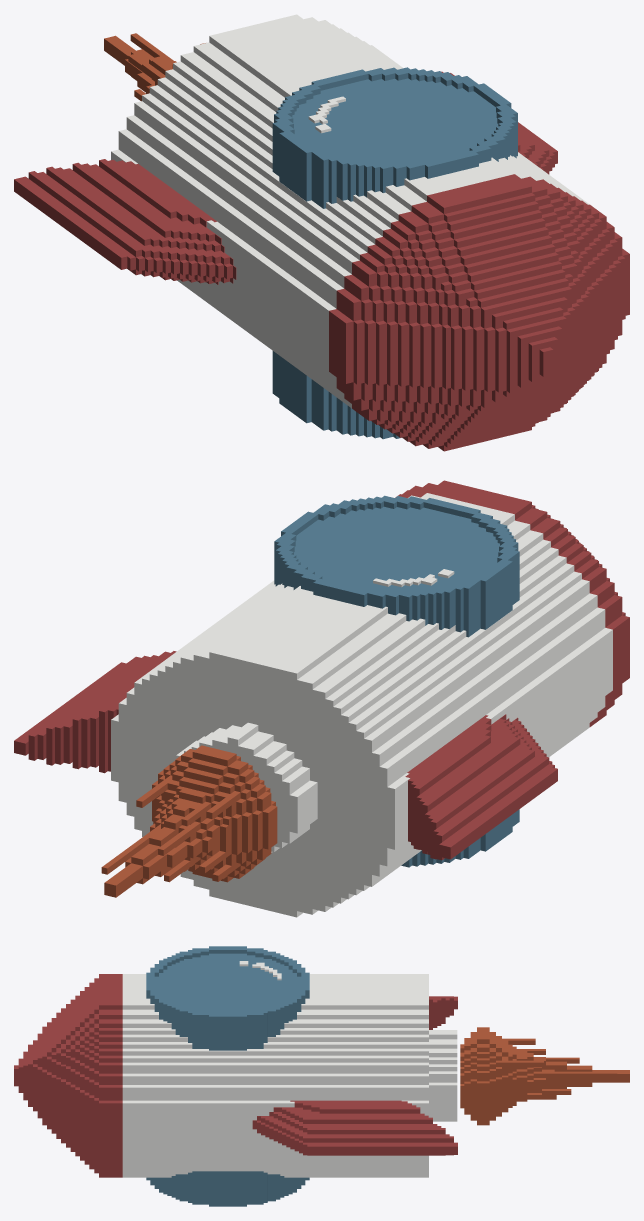
File: roketto_fire.fbx
3 views of the same model, one above another, from view 1: azimuth 30°, elevation 25°; view 2: azimuth 150°, elevation 25°; view 3: azimuth 270°, elevation 25° (orthographic). The views are drawn at different scales.
Parts seen in each view (by area): view 1: Body21, Body9, Body15, Body10, Body35, Body14; view 2: Body9, Body15, Body35, Body10, Body14, Body21; view 3: Body9, Body15, Body21, Body14, Body35, Body10.
Part boxes in pixels (x1=…): Body21: x1=329, y1=174, x2=629, y2=451; Body9: x1=111, y1=14, x2=589, y2=408; Body15: x1=272, y1=67, x2=517, y2=439; Body10: x1=14, y1=159, x2=236, y2=284; Body35: x1=104, y1=33, x2=205, y2=101; Body14: x1=441, y1=71, x2=557, y2=174; Body9: x1=111, y1=493, x2=612, y2=917; Body15: x1=274, y1=495, x2=519, y2=867; Body35: x1=101, y1=745, x2=277, y2=897; Body10: x1=405, y1=714, x2=557, y2=860; Body14: x1=14, y1=651, x2=176, y2=773; Body21: x1=395, y1=480, x2=629, y2=726; Body9: x1=122, y1=974, x2=457, y2=1177; Body15: x1=146, y1=946, x2=309, y2=1206; Body21: x1=14, y1=974, x2=122, y2=1177; Body14: x1=252, y1=1100, x2=457, y2=1155; Body35: x1=460, y1=1027, x2=629, y2=1125; Body10: x1=429, y1=996, x2=457, y2=1029.
Bounding box in the file's own units: 84.56 × 50 × 147.
